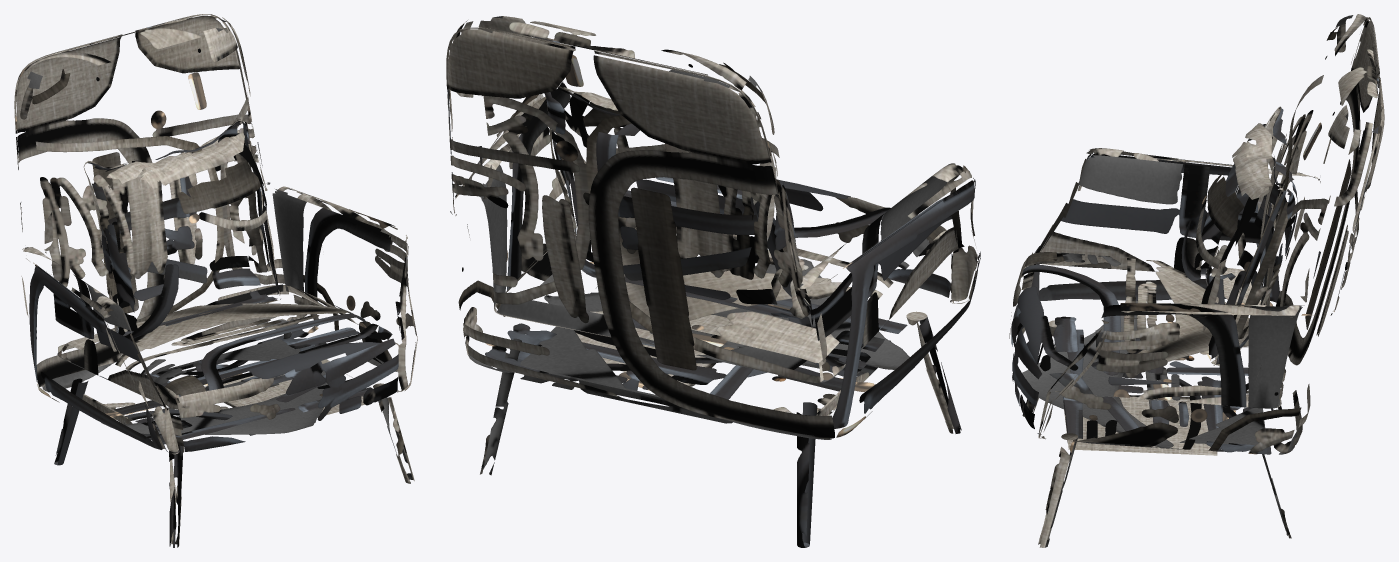
File: raw_model.obj
3 views of the same model, side by side, from view 1: azimuth 30°, elevation 25°; view 2: azimuth 150°, elevation 25°; view 3: azimuth 270°, elevation 25° (orthographic). The views are drawn at different scales.
Visible parts, largest first — view 1: solid_003, solid_001, solid_002; view 2: solid_003, solid_002, solid_001; view 3: solid_003, solid_001, solid_002.
Boxes of the visible parts, <box> form: solid_003: <box>14,14,417,454</box>; solid_001: <box>83,119,280,339</box>; solid_002: <box>54,332,414,547</box>; solid_003: <box>446,16,980,439</box>; solid_002: <box>480,287,961,547</box>; solid_001: <box>544,86,811,318</box>; solid_003: <box>1009,14,1384,454</box>; solid_001: <box>1181,106,1297,365</box>; solid_002: <box>1022,320,1291,547</box>.
Bounding box in the file's own units: 0.7844 × 0.8844 × 0.7316.
